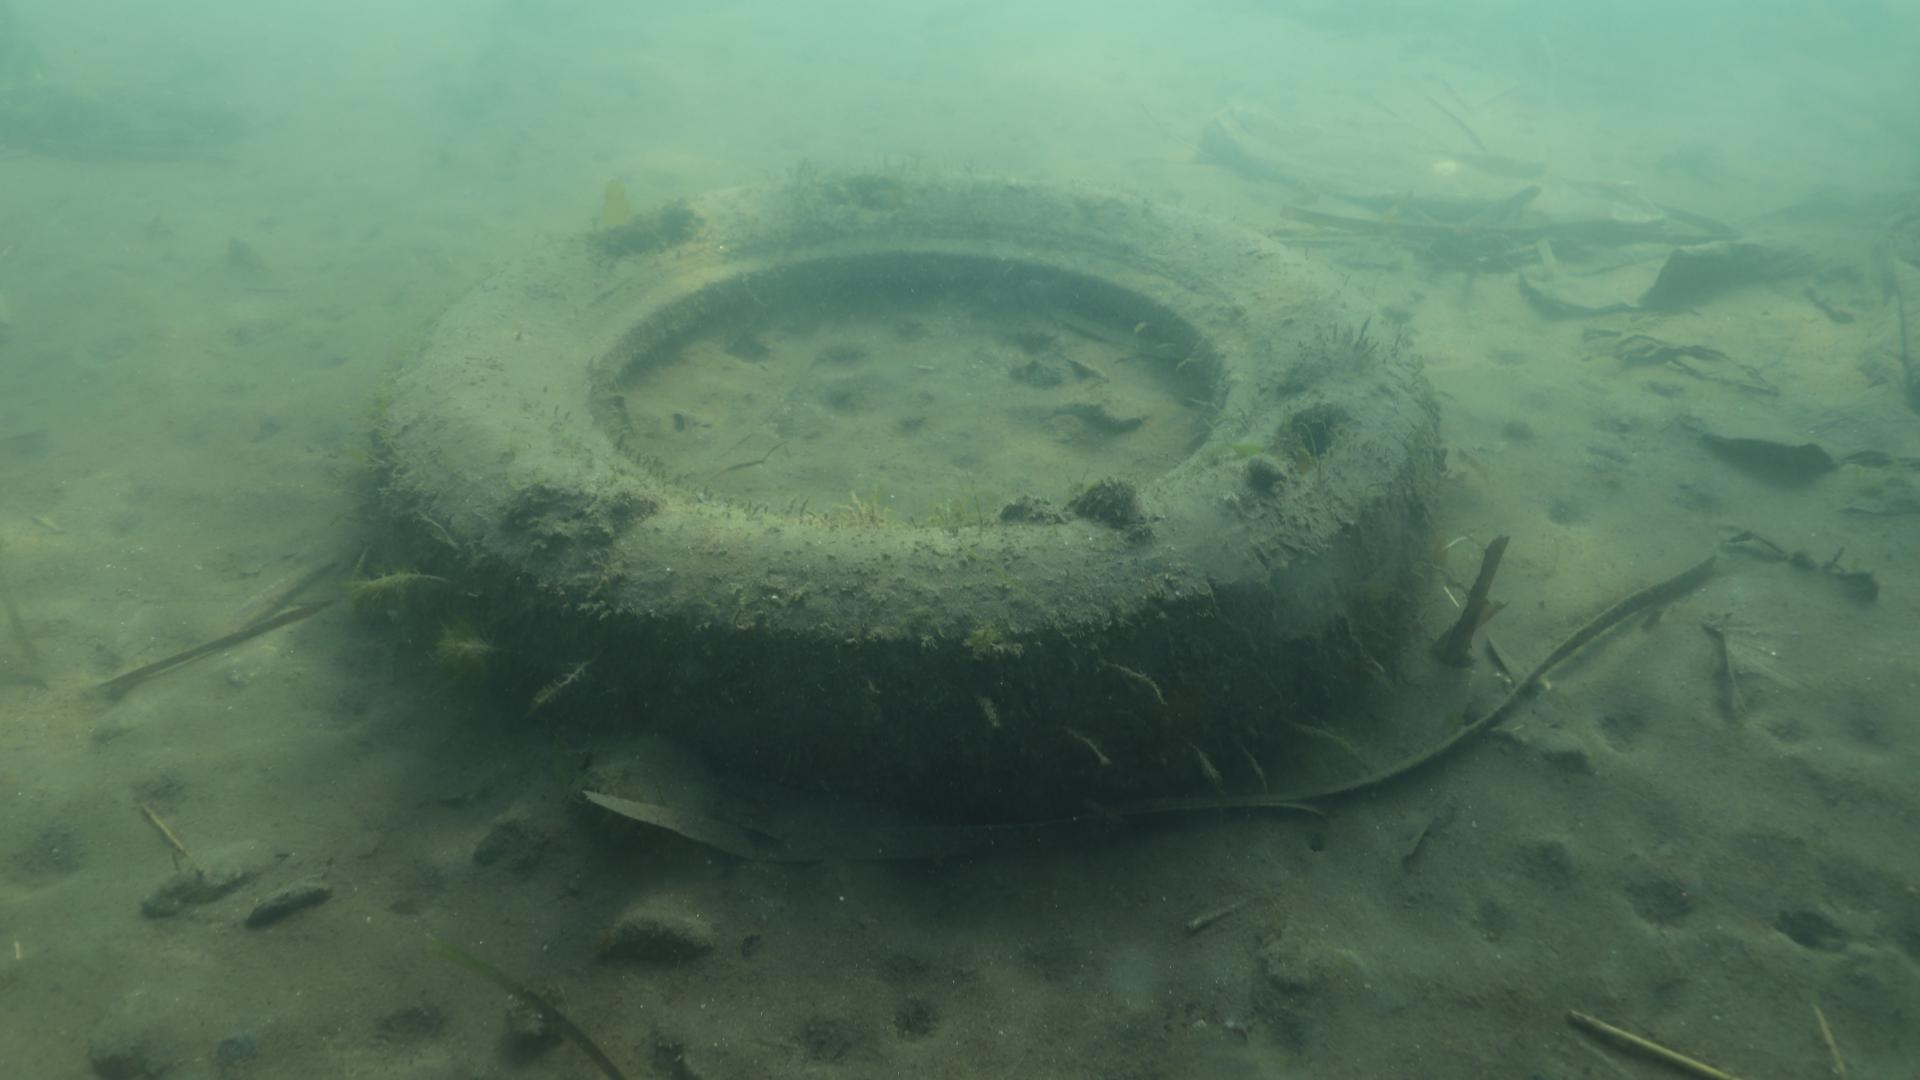tire: (377, 167, 1451, 808)
